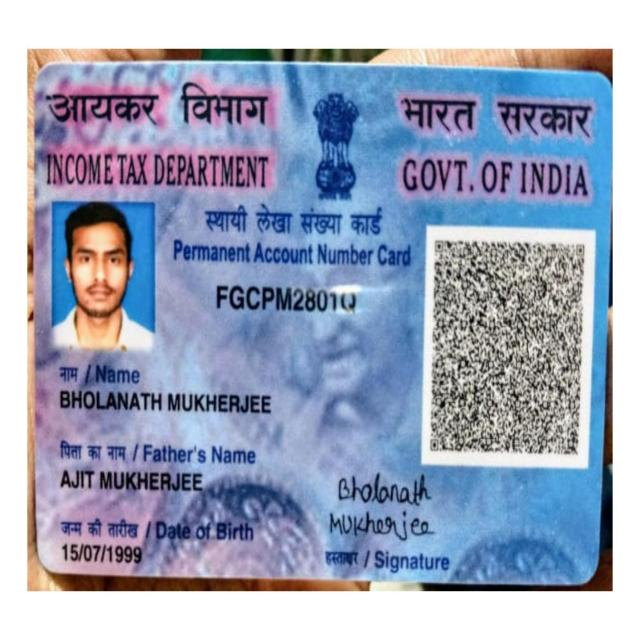pan_card: (38, 65, 609, 588)
